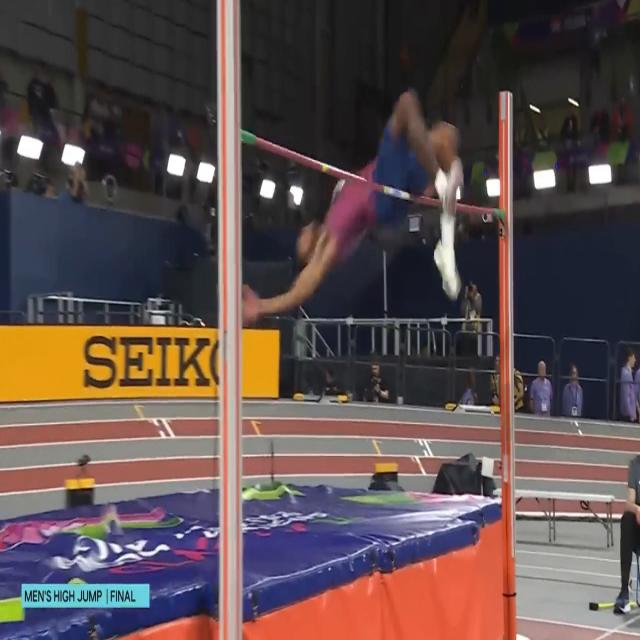jump: (236, 84, 464, 324)
